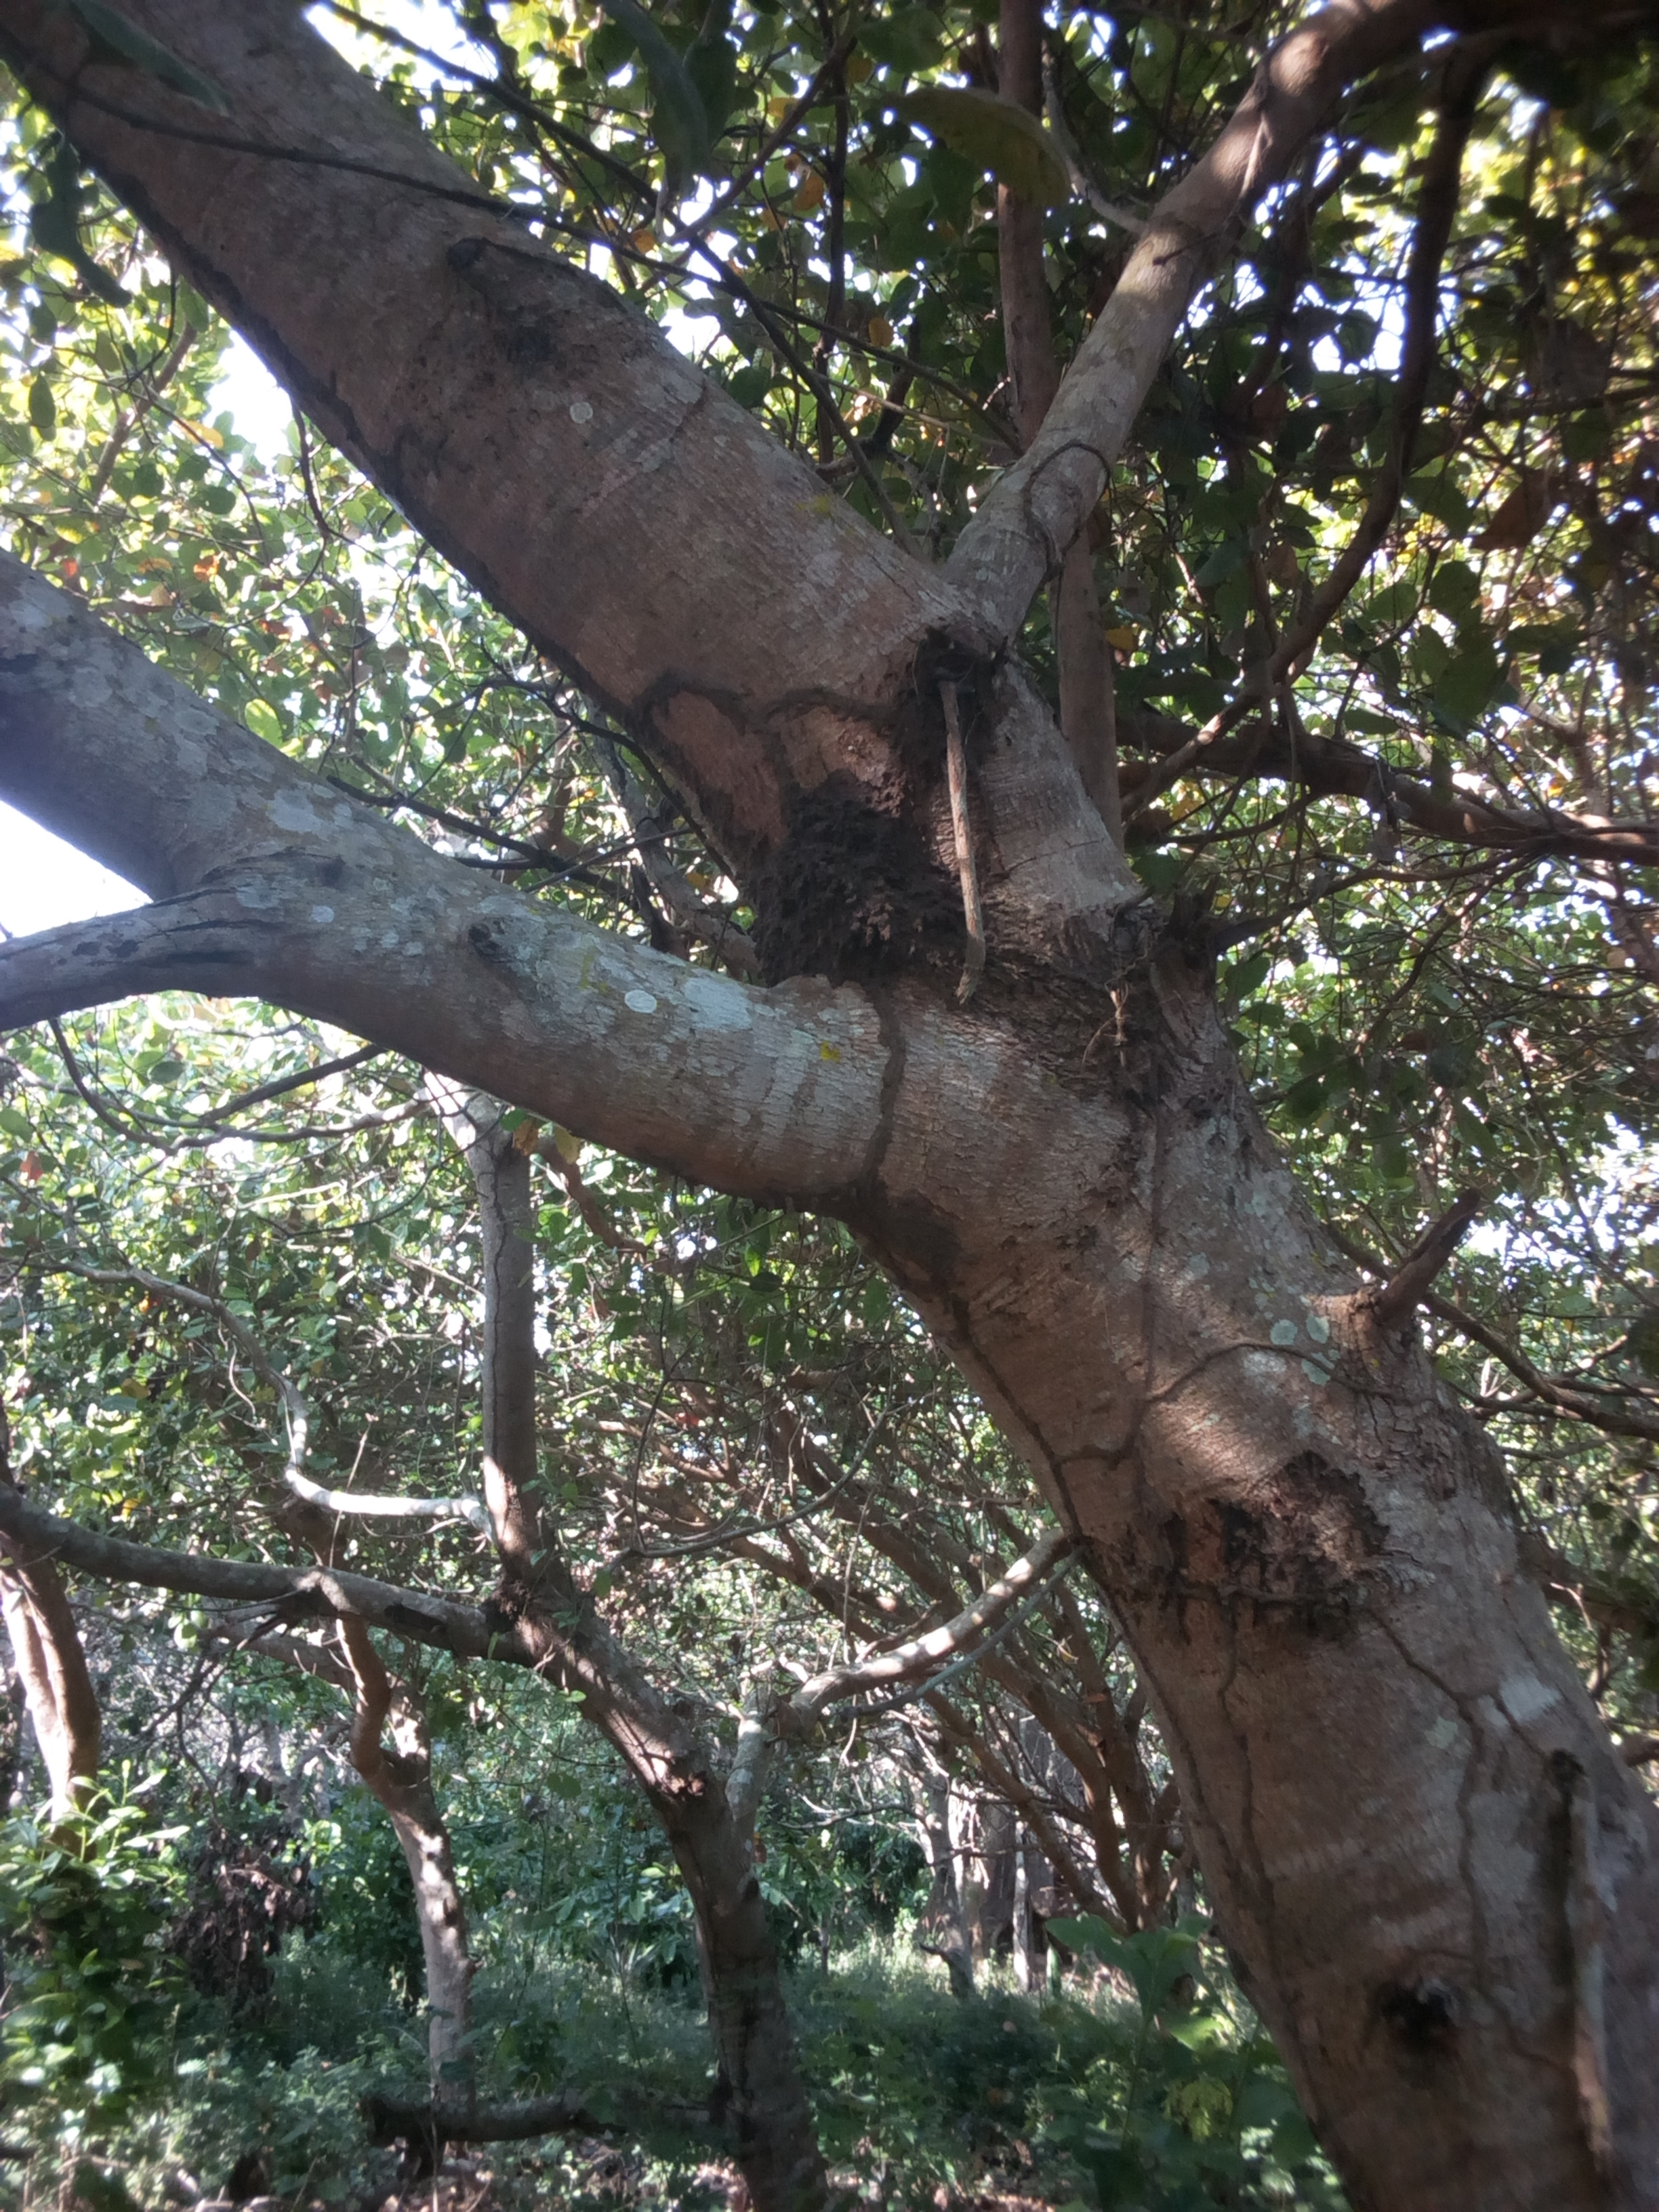Termites: (1110, 977, 1335, 1561), (676, 641, 992, 1014)
